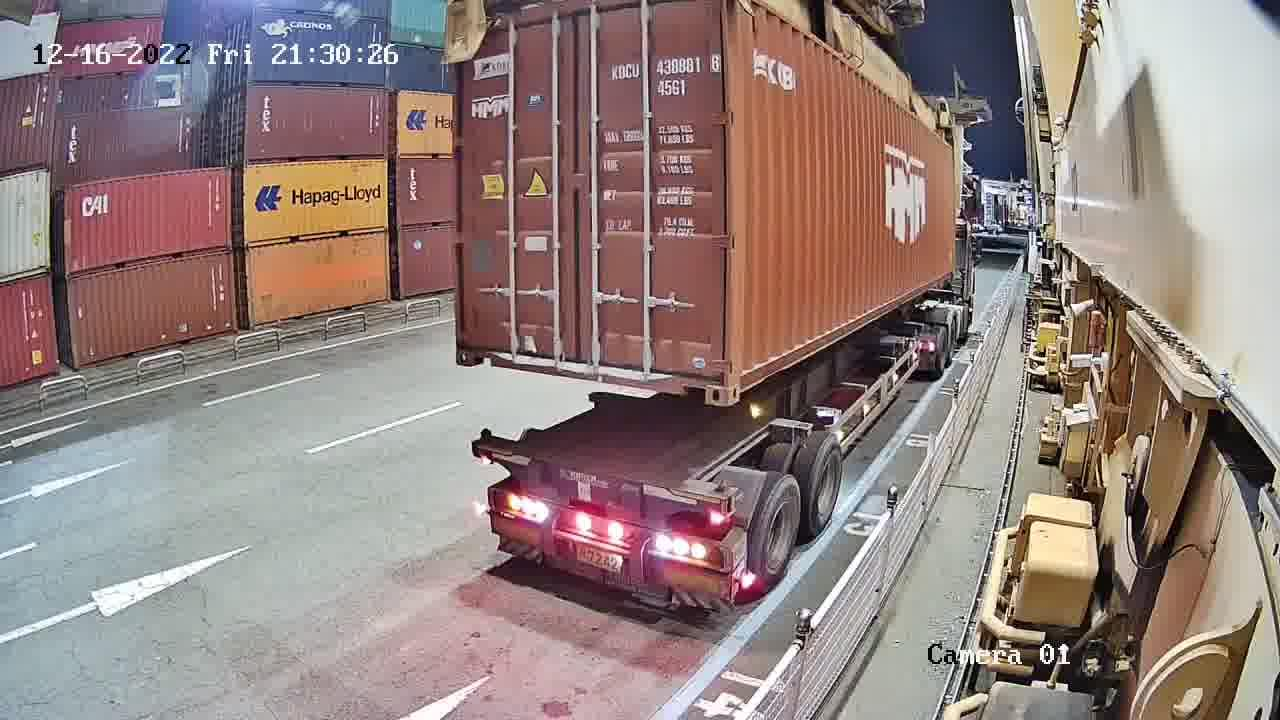Chassis: (471, 449, 732, 535)
Cone: (711, 479, 736, 515), (473, 424, 492, 463)
Hole_L: (456, 306, 514, 367), (727, 334, 770, 404)
Hole_R: (668, 340, 731, 406)
Tire: (750, 484, 803, 585), (808, 437, 844, 535)
